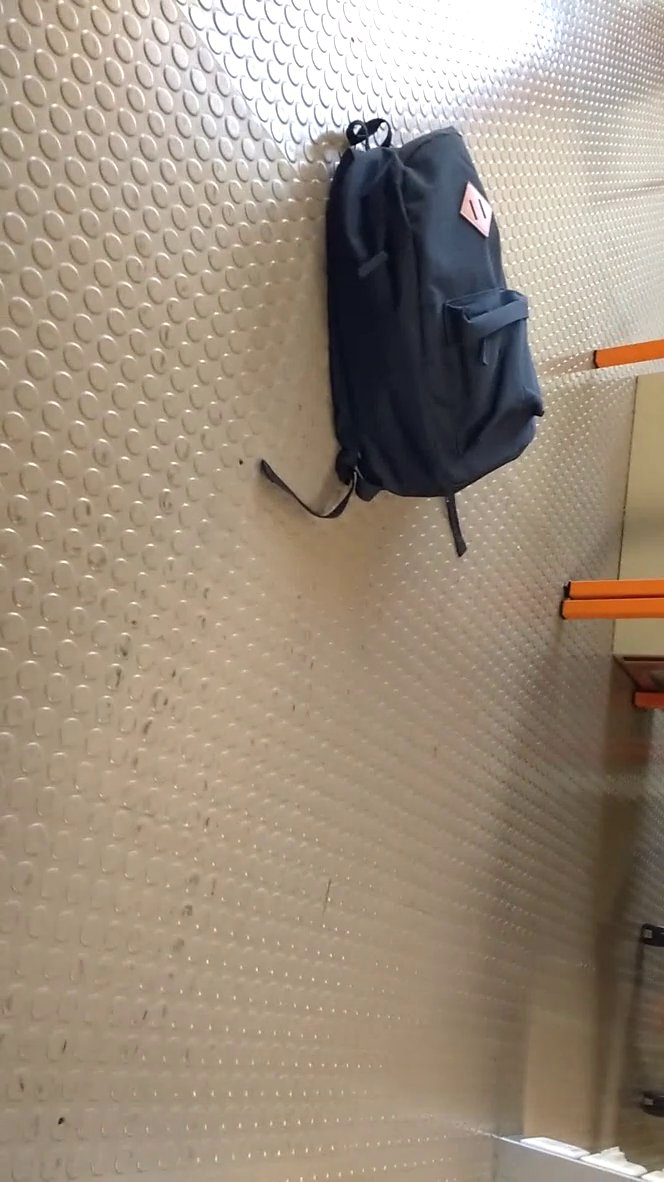bag: (239, 119, 562, 567)
